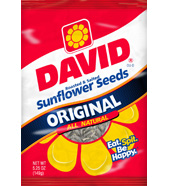grozi_79: (20, 0, 147, 186)
